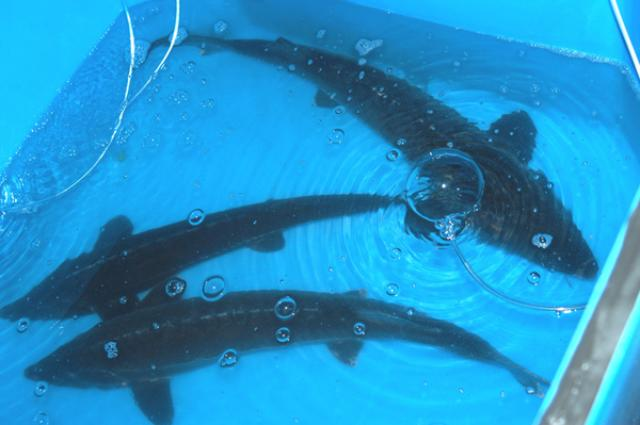Sirip Dada: (461, 101, 557, 185), (69, 205, 141, 303), (122, 354, 198, 425), (399, 182, 469, 256)
Sirip Ekor: (143, 20, 245, 82), (466, 315, 536, 371)
Sirip Punggung: (340, 297, 448, 351)
